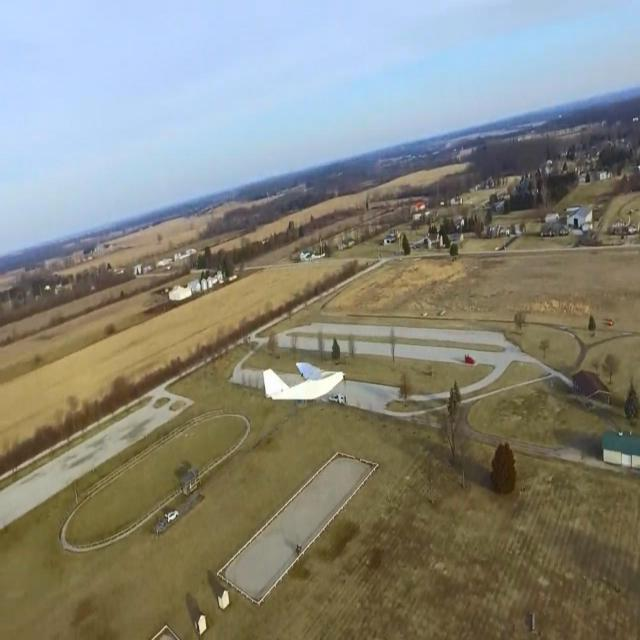UAV: (250, 346, 354, 430)
